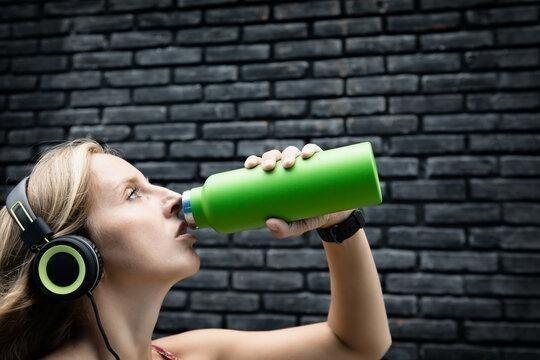gym bottle: (180, 139, 385, 234)
